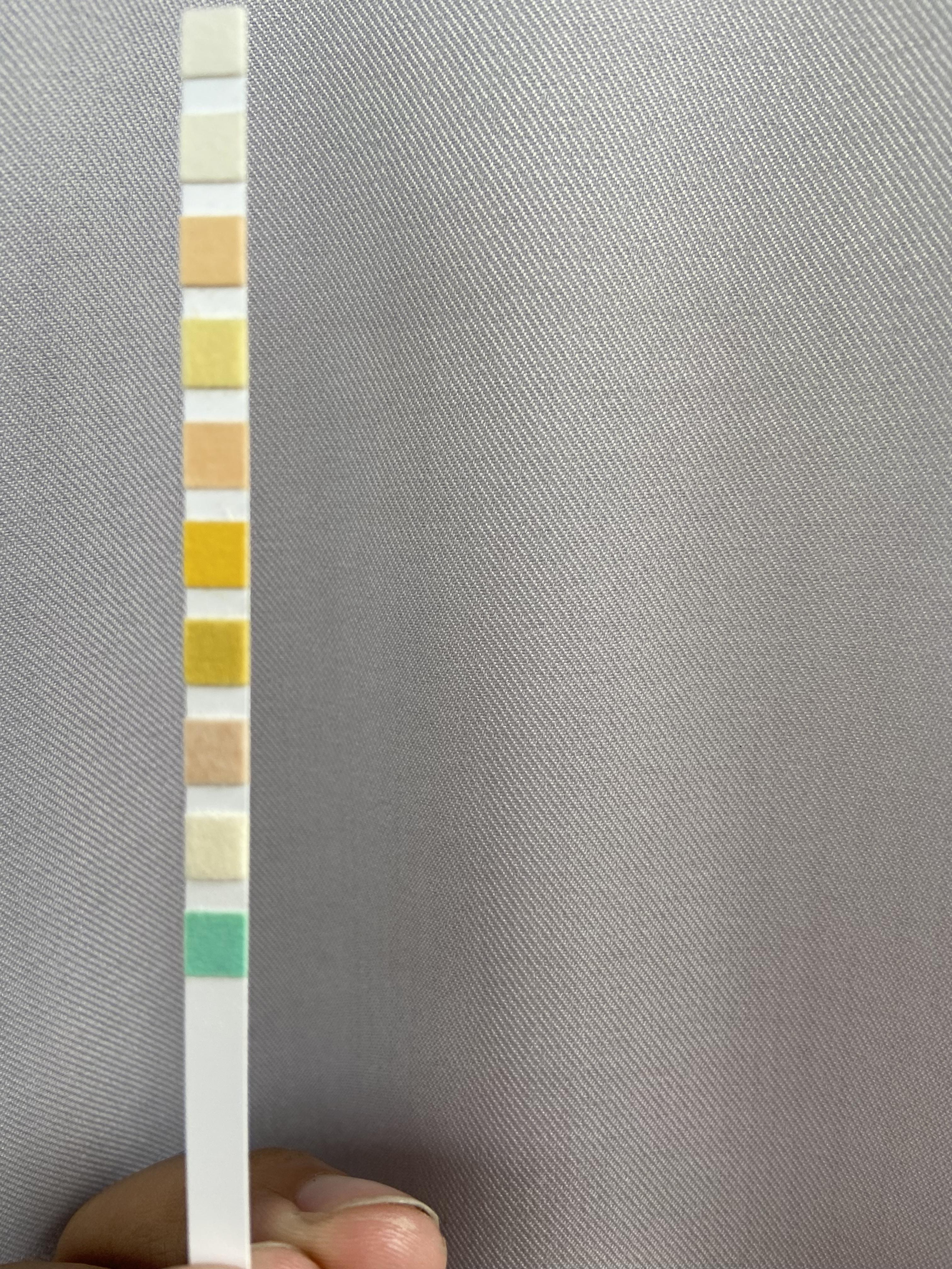Bilirubin: (189, 817, 243, 876)
Blood: (186, 525, 243, 587)
Glucose: (187, 914, 243, 975)
Ketone: (188, 723, 242, 784)
Leukocytes: (184, 12, 239, 71)
Nitrite: (183, 118, 235, 179)
Protein: (186, 322, 241, 384)
SpGravity: (188, 623, 242, 681)
Urobilinogen: (182, 219, 239, 282)
pH: (187, 426, 244, 485)
strip: (182, 9, 251, 1248)
